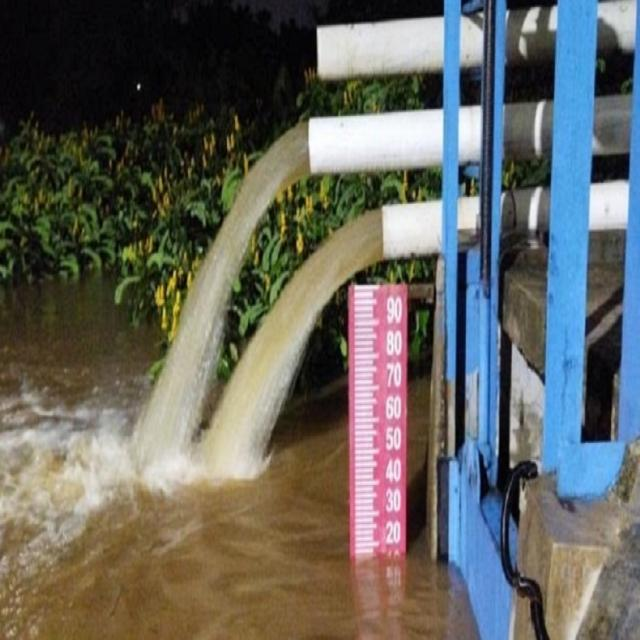water-meter: (345, 278, 409, 578)
